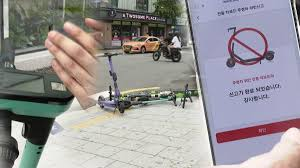fallin_kick: (127, 84, 196, 108)
guide_blocks: (72, 110, 113, 131)
kick_neck: (108, 62, 119, 94)
kick_wheel: (116, 102, 124, 113)
